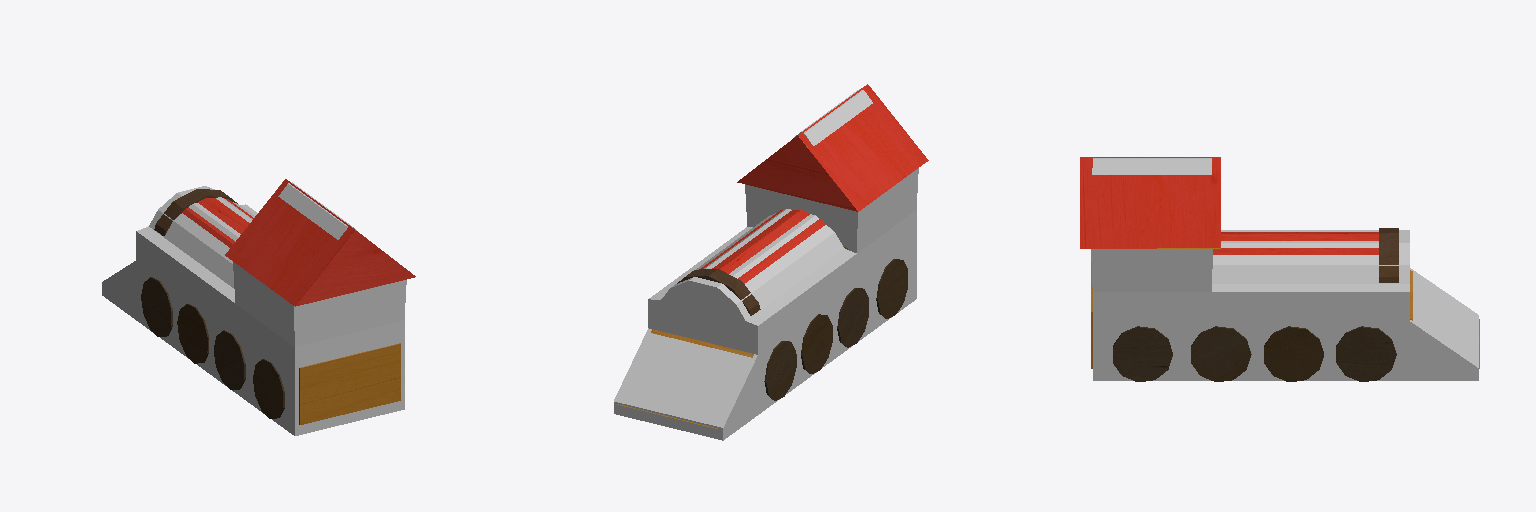
3 renders of one model, left to right at view 1: azimuth 30°, elevation 25°; view 2: azimuth 150°, elevation 25°; view 3: azimuth 270°, elevation 25°, orthographic.
Visible parts, largest first — view 1: COLLISION_Cube, train_Cylinder.007; view 2: COLLISION_Cube, train_Cylinder.007; view 3: COLLISION_Cube, train_Cylinder.007.
Boxes of the visible parts, <box> form: COLLISION_Cube: <box>102,182,406,435</box>; train_Cylinder.007: <box>141,179,415,424</box>; COLLISION_Cube: <box>614,89,918,440</box>; train_Cylinder.007: <box>617,84,928,428</box>; COLLISION_Cube: <box>1091,158,1478,380</box>; train_Cylinder.007: <box>1080,157,1479,381</box>.
Size of the model in its own units: 1.68 by 2.61 by 4.77.
2 materials, 1 textured.